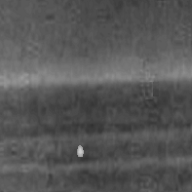Target: (75, 144, 85, 159)
